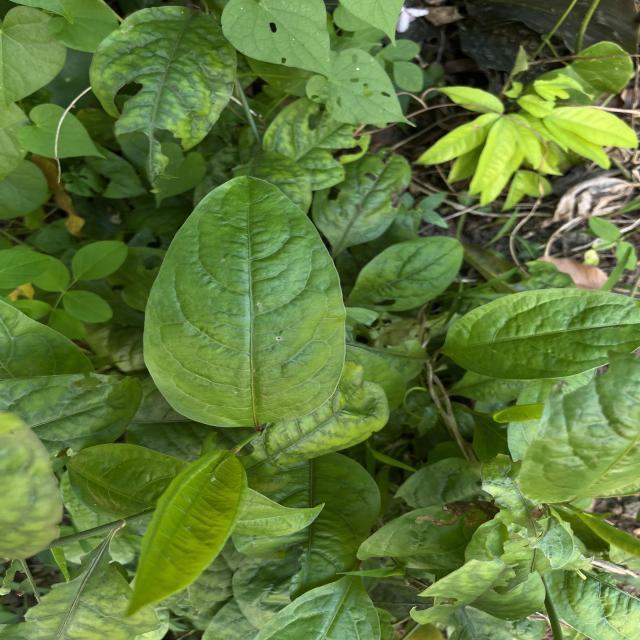Plumbago indica: (138, 172, 354, 438), (117, 448, 260, 625), (432, 286, 640, 382)
